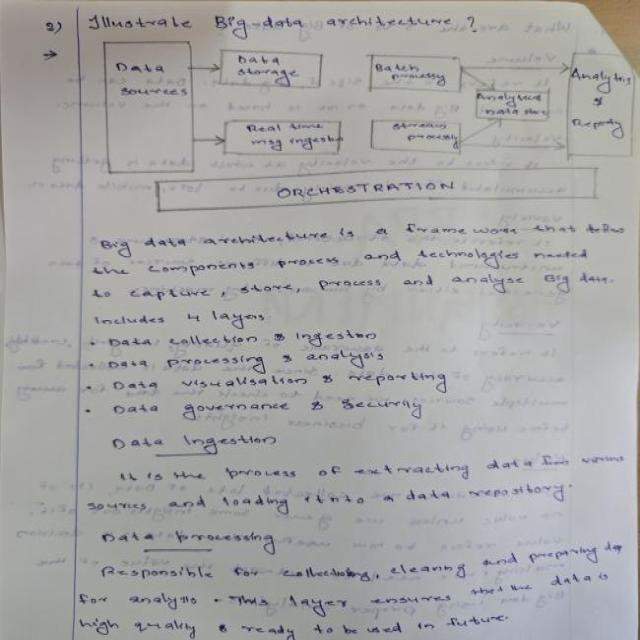Figure Detection - v3 Dataset Version2: (86, 32, 640, 219)
